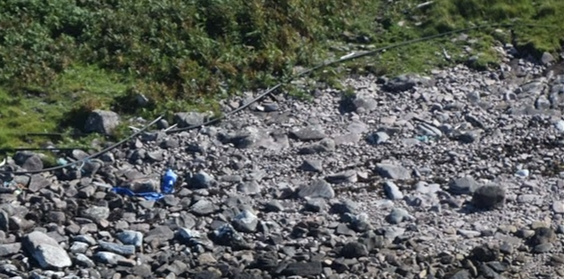scattered_barrel: (91, 166, 267, 272)
tube: (292, 17, 517, 80), (13, 112, 174, 175), (169, 75, 289, 136)
